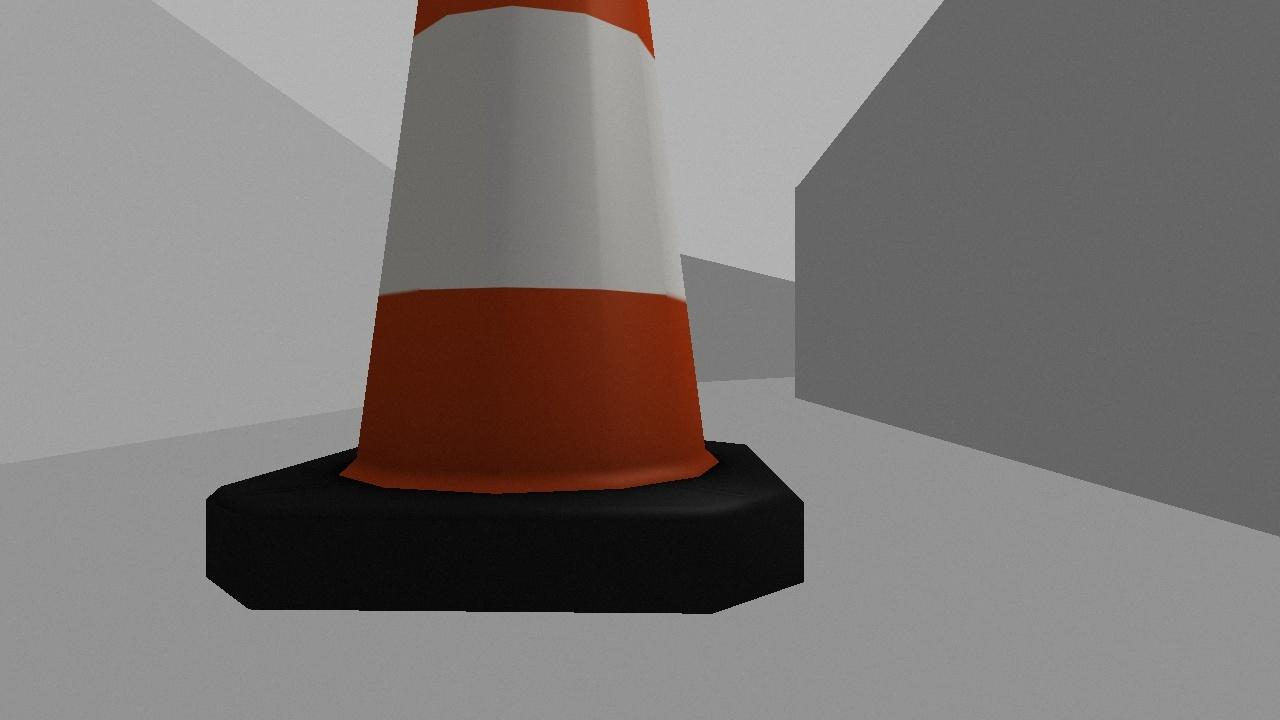cone_barrel: (203, 0, 805, 614)
